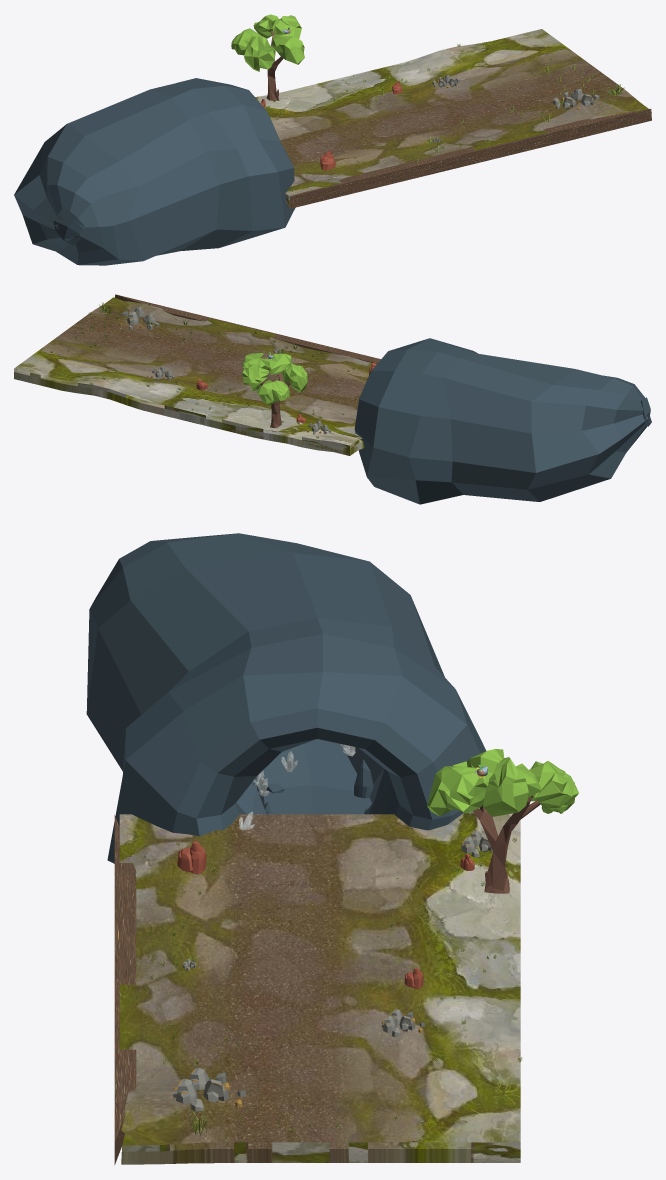
The model's file is Land_Of_Chase.fbx.
The picture shows the model from 3 angles, top to bottom: view 1: azimuth 30°, elevation 25°; view 2: azimuth 150°, elevation 25°; view 3: azimuth 270°, elevation 25°; orthographic projection. The views are drawn at different scales.
Parts seen in each view (by area): view 1: Cave.002, Floor, Cube, Cave.004, Resource_Gold_3.003, Cave.003; view 2: Cave.002, Floor, Cave.004, Cube, Resource_Gold_3.003, Cave.003; view 3: Floor, Cave.002, Cave.004, Cube, Cave.003, Resource_Gold_3.003.
Boxes of the visible parts, x1,y1,x2,y2 form: Cave.002: (14, 78, 295, 265); Floor: (255, 29, 648, 206); Cube: (289, 109, 651, 208); Cave.004: (231, 14, 304, 71); Resource_Gold_3.003: (553, 88, 599, 109); Cave.003: (266, 30, 283, 100); Cave.002: (354, 338, 651, 504); Floor: (14, 297, 372, 455); Cave.004: (242, 353, 307, 405); Cube: (115, 294, 380, 363); Resource_Gold_3.003: (119, 306, 159, 329); Cave.003: (260, 372, 290, 431); Floor: (119, 808, 520, 1164); Cave.002: (86, 533, 486, 863); Cave.004: (427, 749, 578, 816); Cube: (114, 815, 136, 1164); Cave.003: (473, 795, 540, 893); Resource_Gold_3.003: (173, 1067, 245, 1111).
Bounding box in the file's own units: 50205 × 11350 × 19693.
